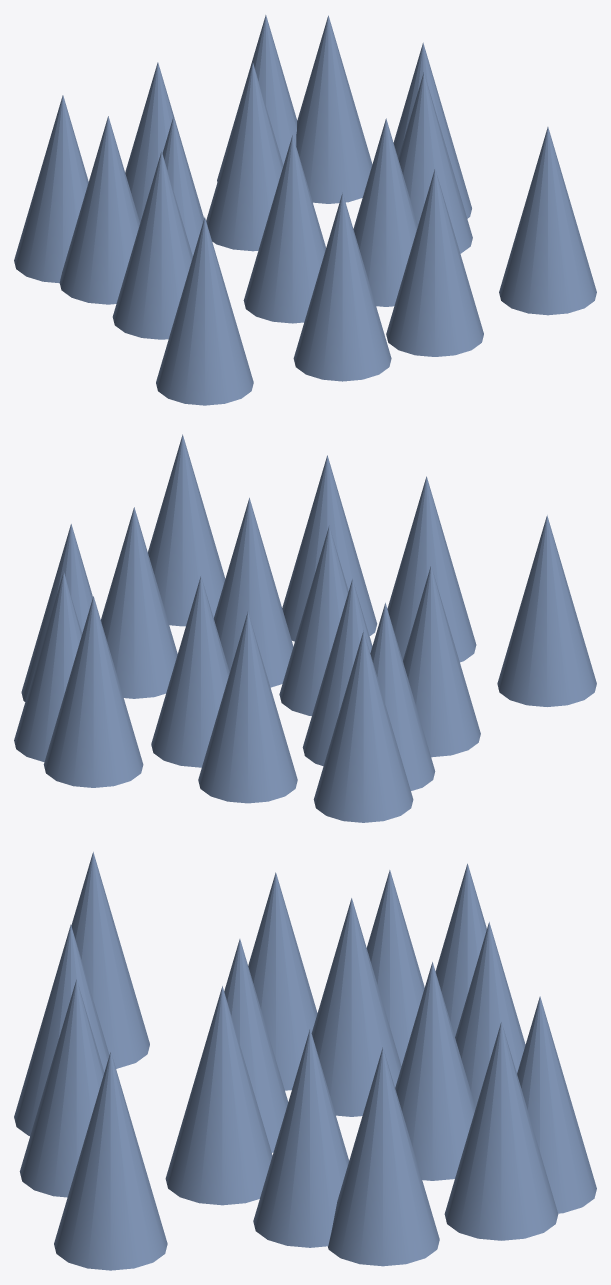
File: ice_spikes.fbx
3 renders of one model, top to bottom at view 1: azimuth 30°, elevation 25°; view 2: azimuth 150°, elevation 25°; view 3: azimuth 270°, elevation 25°, orthographic. The views are drawn at different scales.
Visible parts, largest first — view 1: Random_1; view 2: Random_1; view 3: Random_1.
Part boxes in pixels (x1,y1,x2,y2): Random_1: (14,15,596,405); Random_1: (14,434,596,822); Random_1: (14,852,596,1270).
Size of the model in its own units: 524 by 195 by 524.
